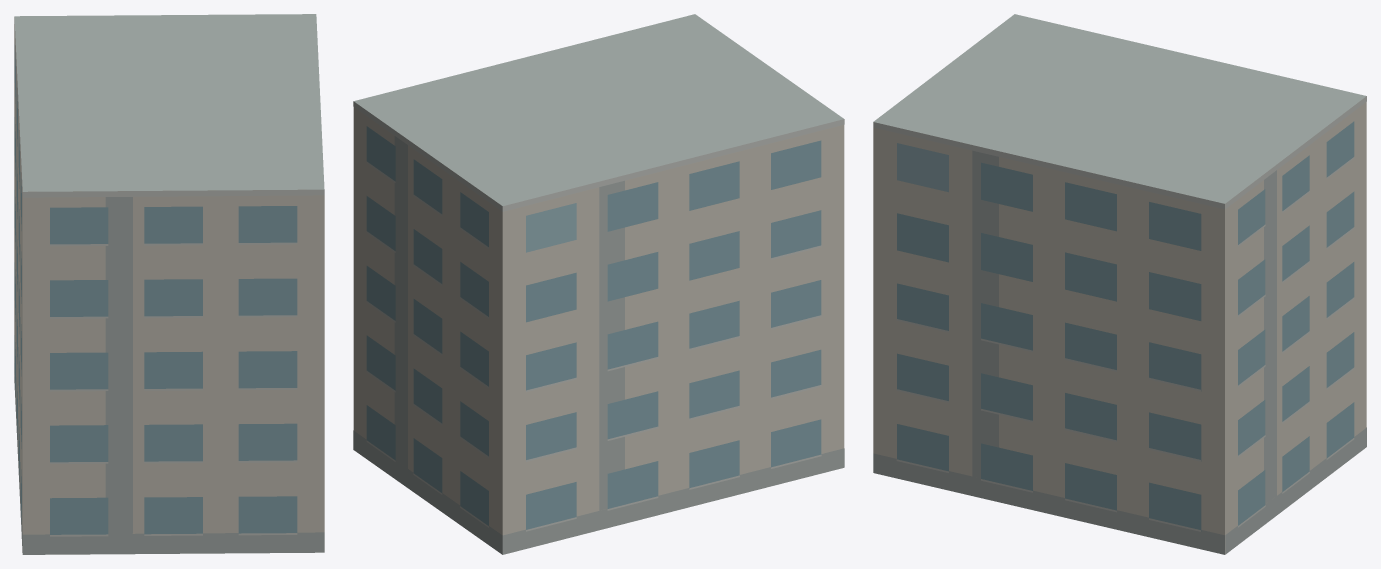
File: survey-upis-32877634.glb
3 views of the same model, side by side, from view 1: azimuth 30°, elevation 25°; view 2: azimuth 150°, elevation 25°; view 3: azimuth 270°, elevation 25° (orthographic). The views are drawn at different scales.
Parts seen in each view (by area): view 1: survey-upis-32877634.tmp; view 2: survey-upis-32877634.tmp; view 3: survey-upis-32877634.tmp.
Boxes of the visible parts, x1,y1,x2,y2 form: survey-upis-32877634.tmp: (14,14,324,554); survey-upis-32877634.tmp: (353,14,844,554); survey-upis-32877634.tmp: (873,14,1366,554).
Bounding box in the file's own units: 17.7 × 15.25 × 19.44.
